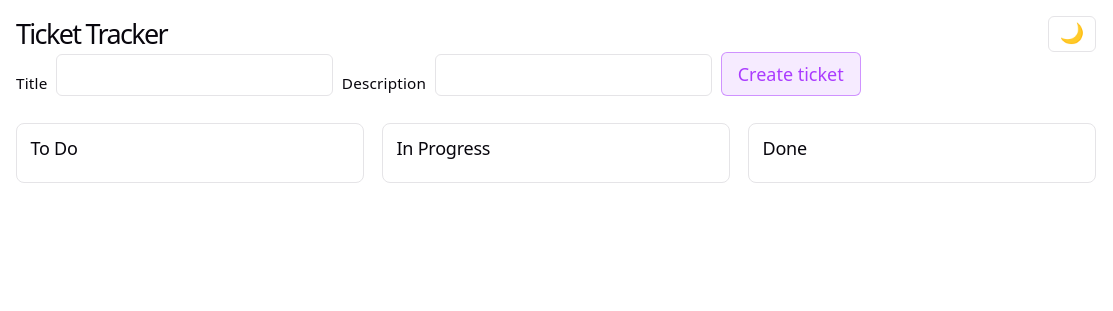
Test case: create ticket form (T-003 B-4) › adds the new ticket to To Do without a manual reload, and clears the form
Expected: the element "To Do" is shown, 16,124 -> 364,183
In the field labelled "Title": (195, 75) 56,54 -> 333,96, type "Write the create form"
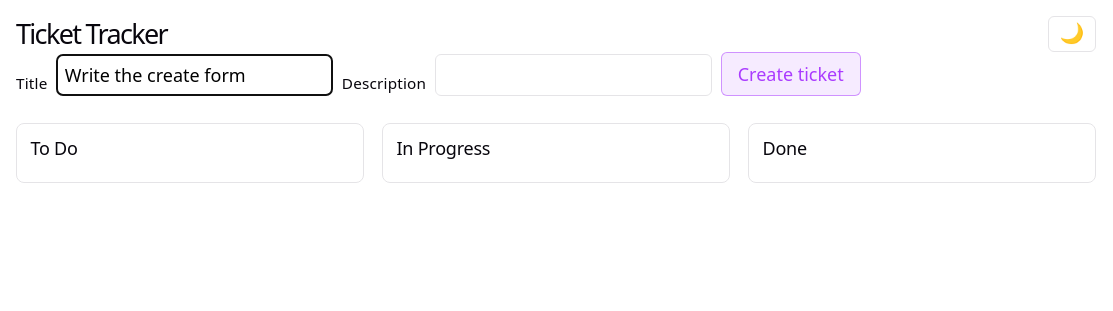
In the field labelled "Description": (573, 75) 435,54 -> 712,96, type "drive it via TDD"
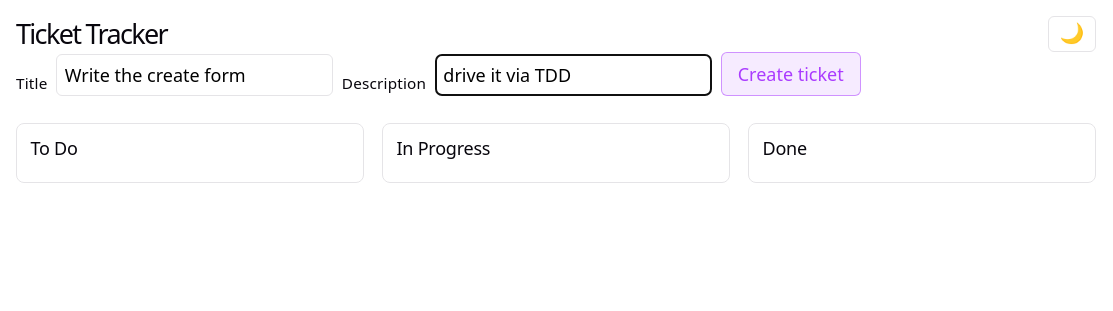
Click the button "Create ticket": (791, 74) 720,52 -> 861,96
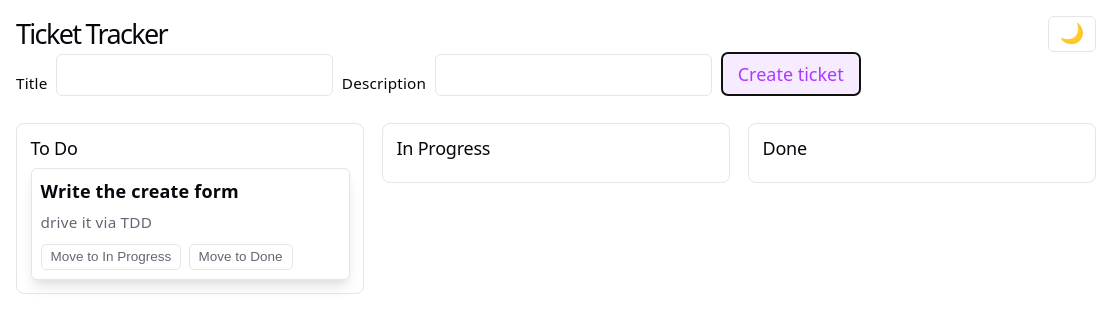
Expected: the text "Write the create form" is shown, 40,179 -> 239,203
Expected: the field labelled "Title" is empty, 56,54 -> 333,96
Expected: the field labelled "Description" is empty, 435,54 -> 712,96
